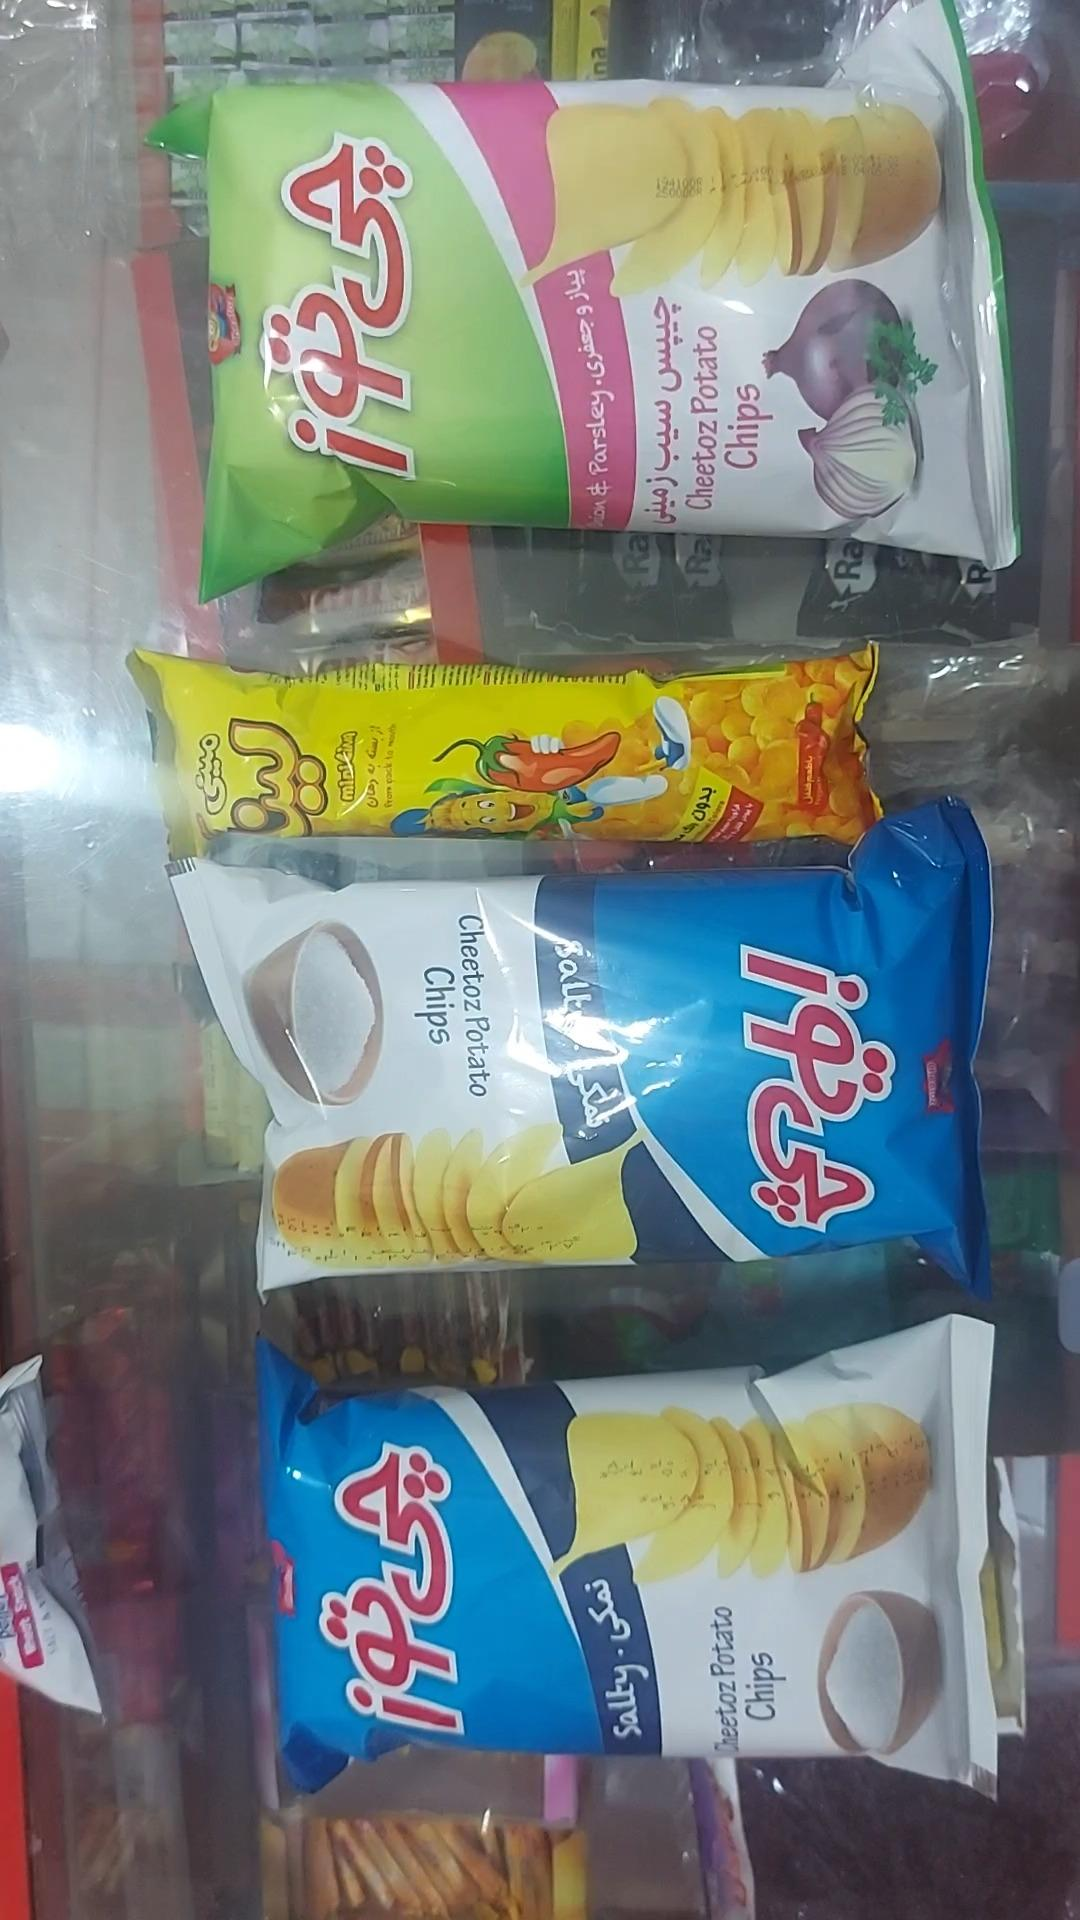Cheetoz onion and parsley chips: (148, 0, 1025, 603)
Cheetoz salty chips: (171, 800, 992, 1300), (257, 1316, 1000, 1805)
Mini Lina: (125, 645, 882, 861)
